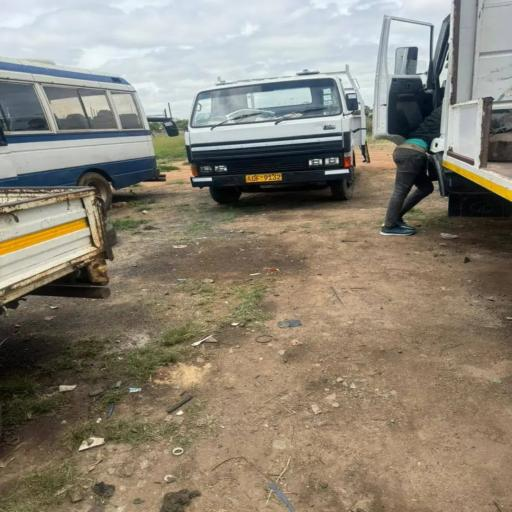number-plates: (246, 173, 284, 183)
